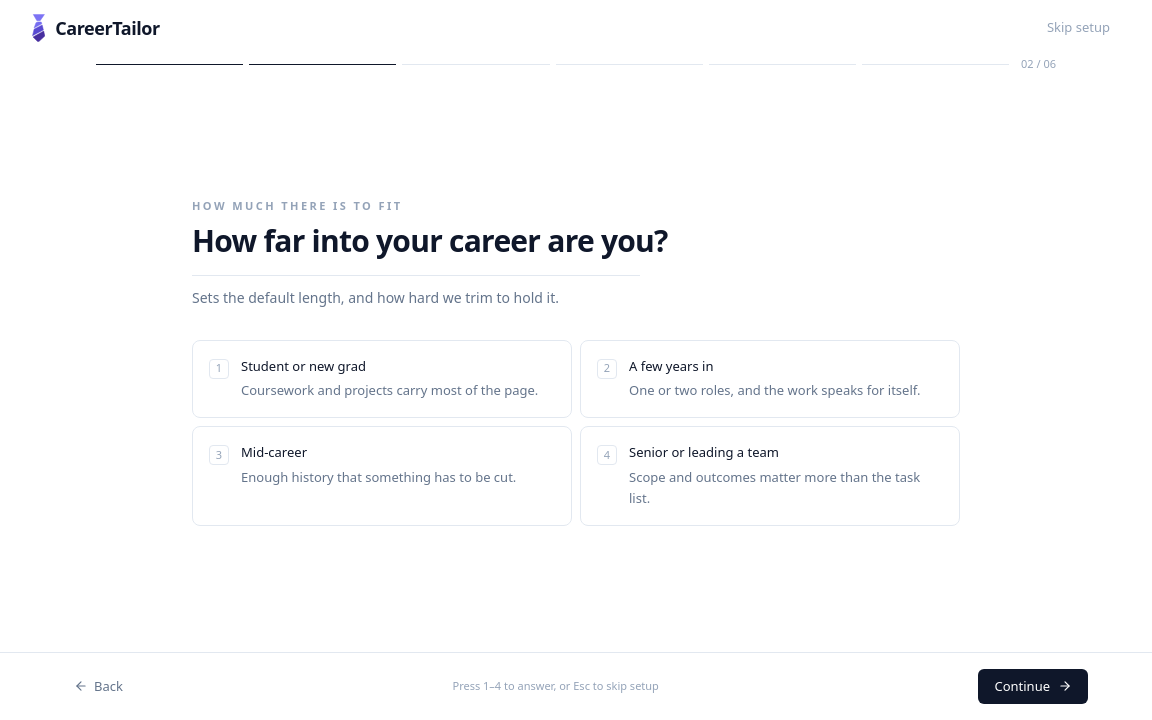
Test: onboarding flow › goes back to the previous question with the Back button
Expected: the heading "How far into your career are you?" is shown, left=192, top=220, right=668, bottom=261
Click the button "Back" at (98, 686), box left=64, top=670, right=133, bottom=702
Wait 800 ms
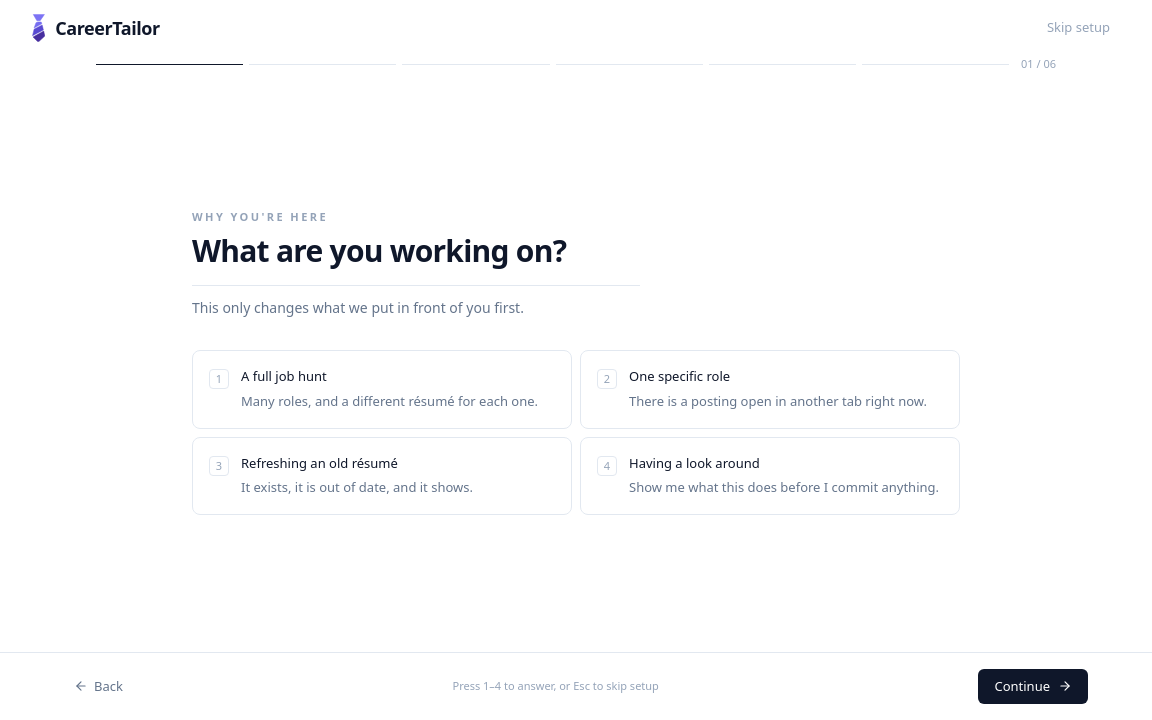
Result: the heading "What are you working on?" is shown at left=192, top=230, right=566, bottom=271
